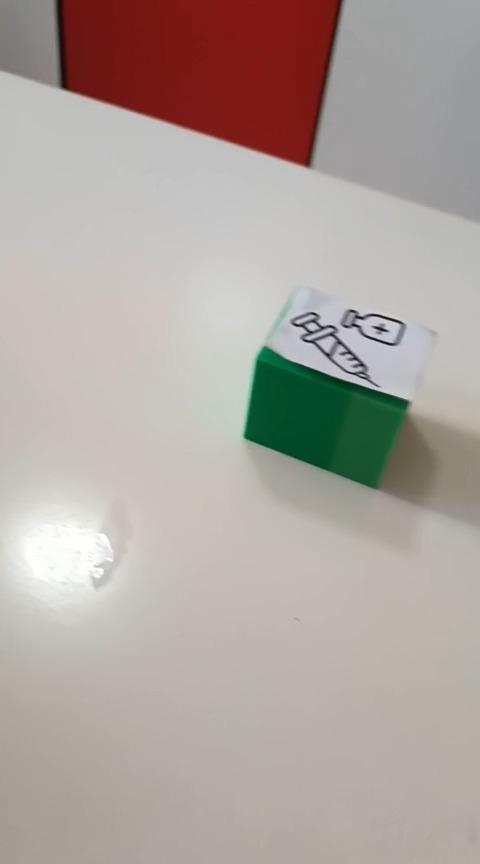antiseptic cream: (241, 282, 437, 490)
